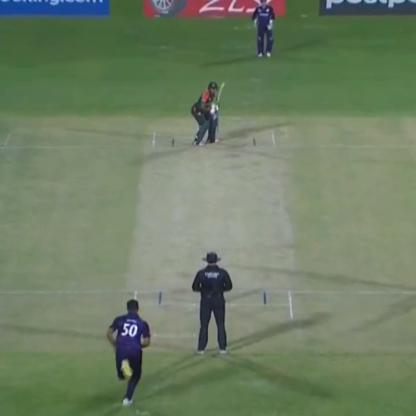bat: (212, 80, 227, 117)
pitch: (123, 123, 298, 348)
